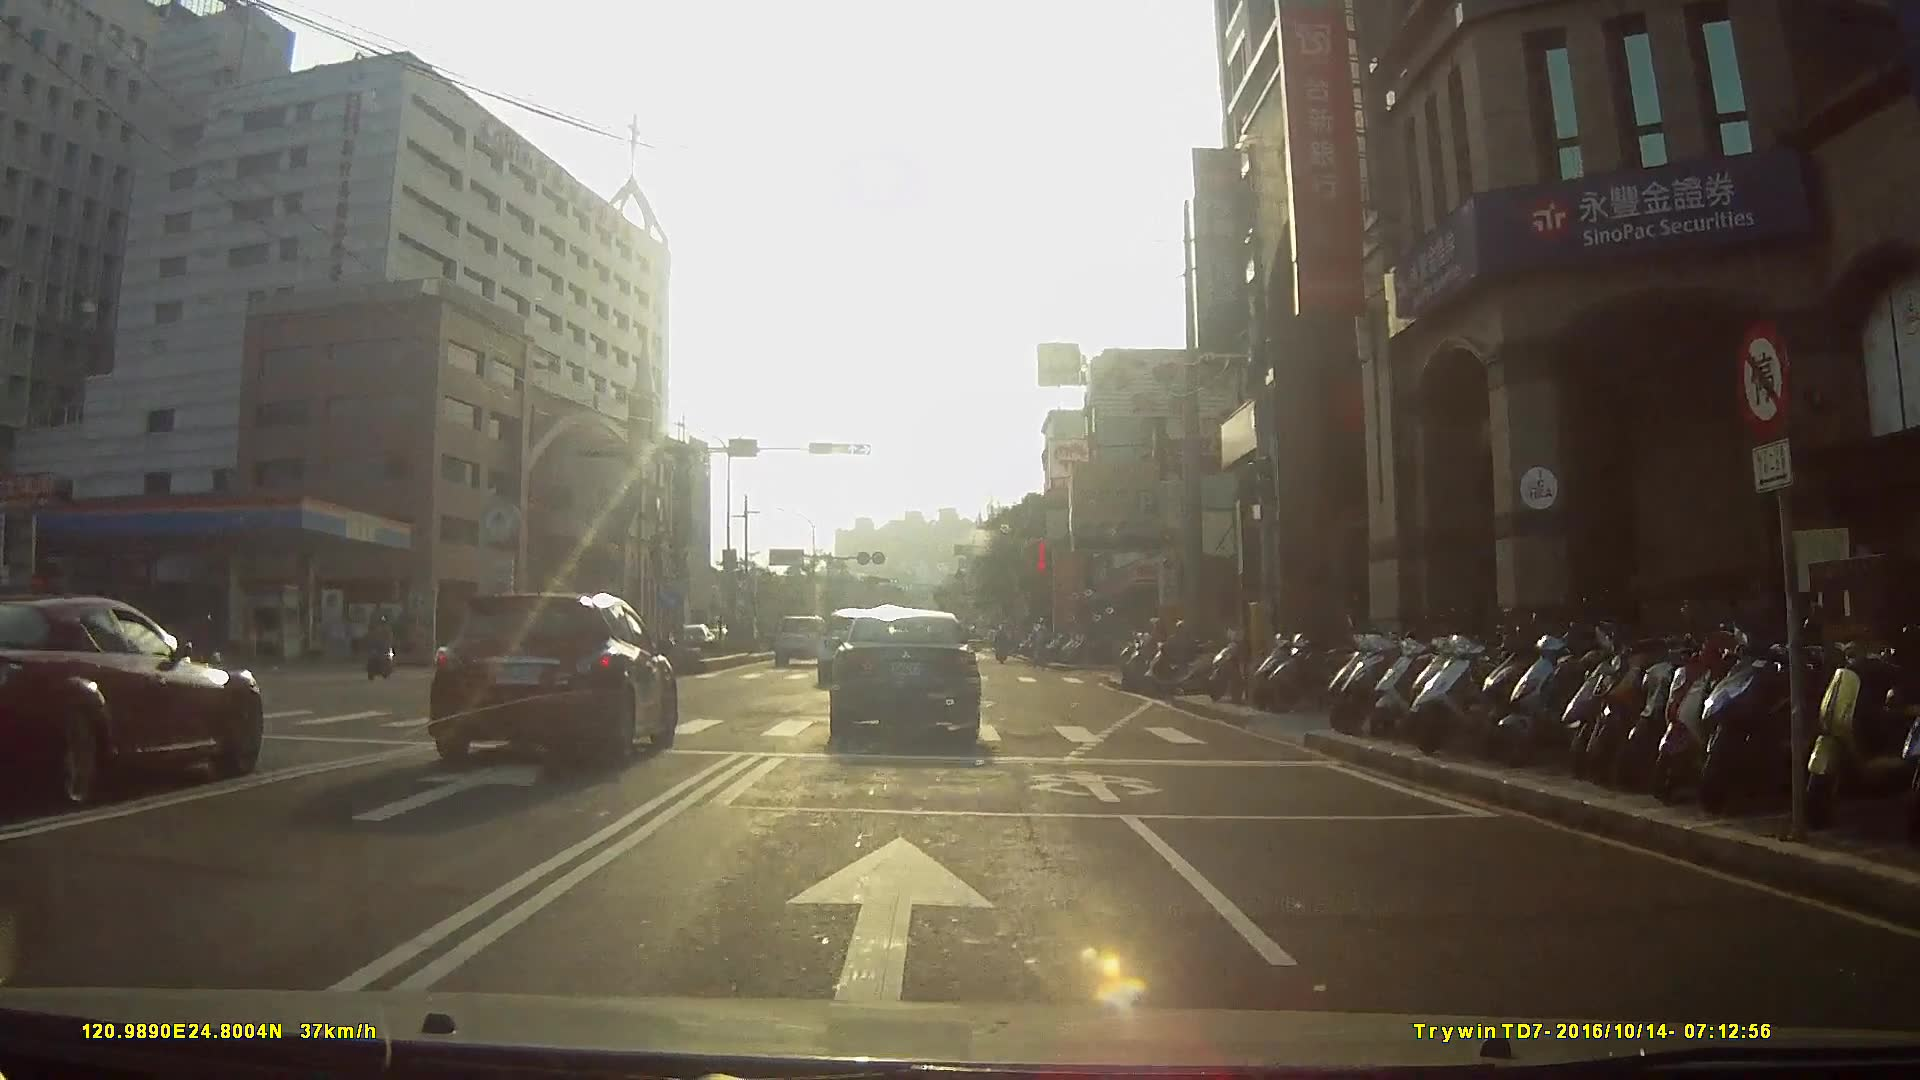rider: (1136, 619, 1227, 700), (186, 611, 225, 684), (370, 617, 403, 681)
vehicle: (1, 588, 265, 810), (419, 587, 691, 775), (823, 607, 994, 746), (776, 612, 835, 667)
